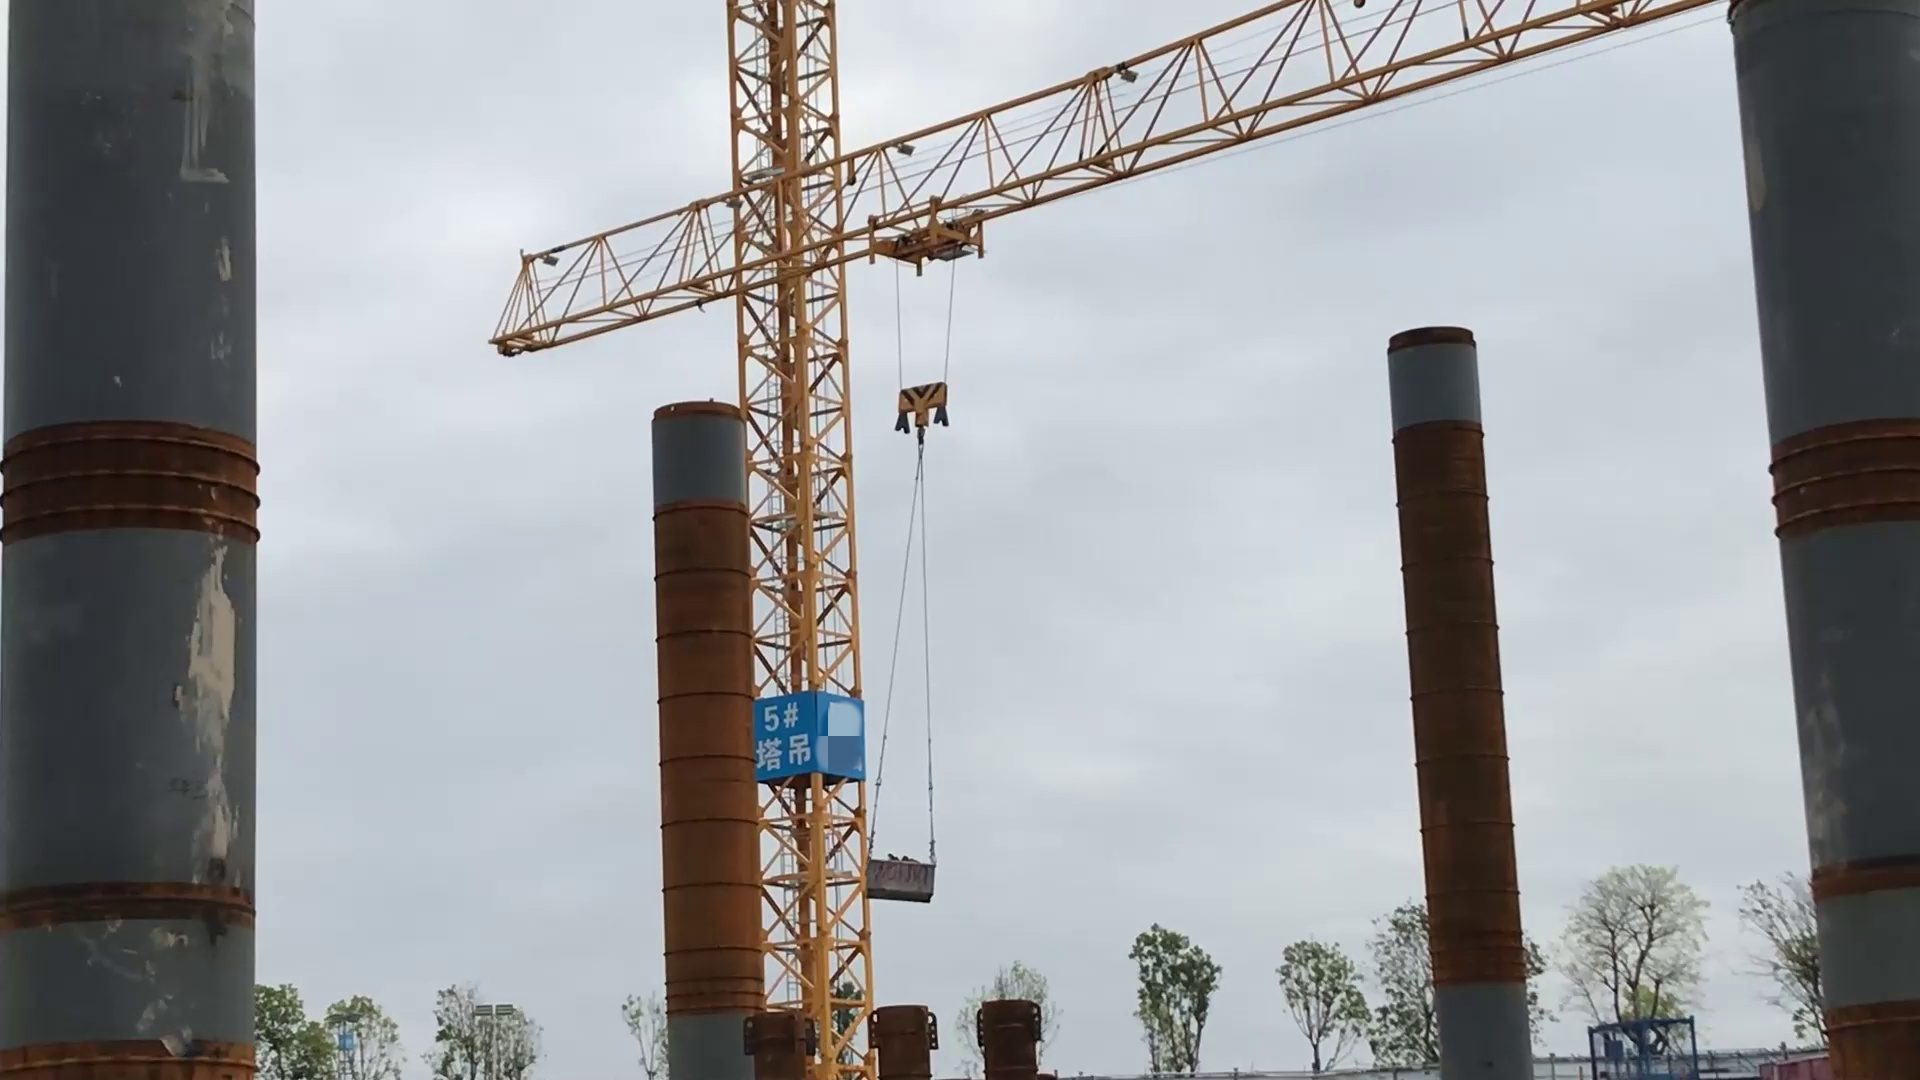hook: (895, 381, 944, 439)
hopper: (851, 829, 945, 911)
